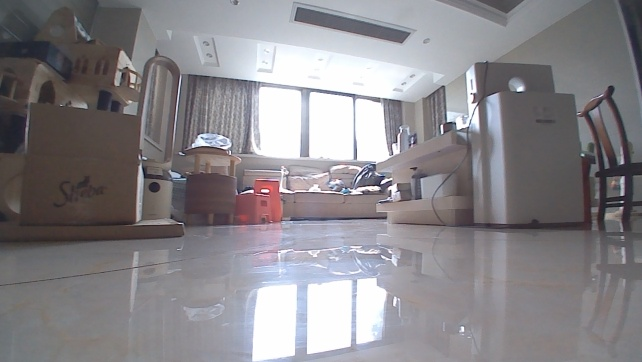sofa: (240, 164, 395, 223)
wire: (428, 59, 489, 227)
